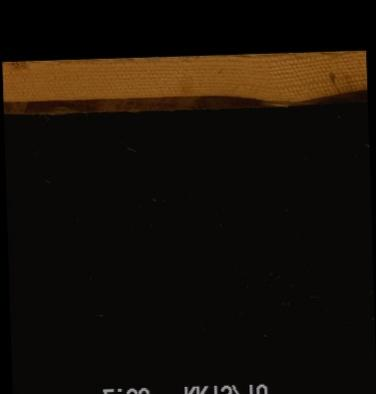wave: (4, 91, 367, 115)
